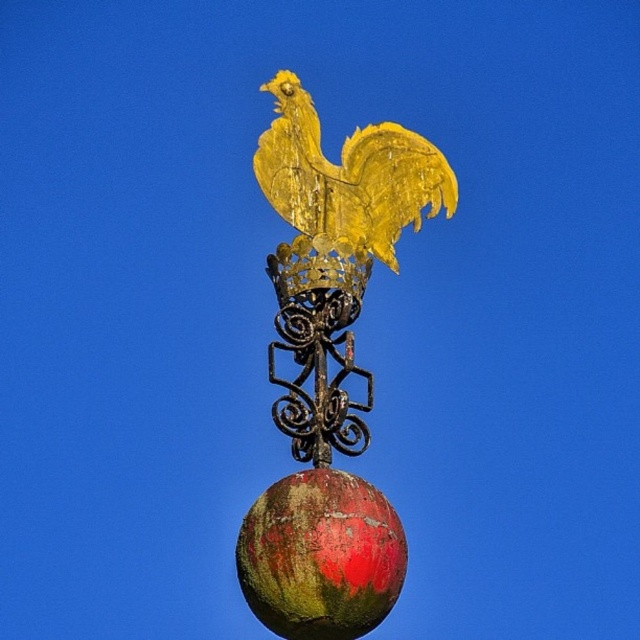Chicken: (251, 66, 464, 257)
